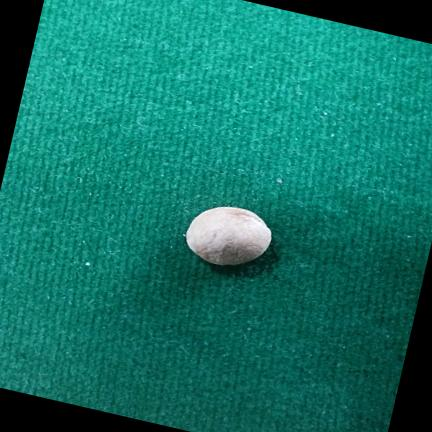husk: (187, 207, 272, 265)
